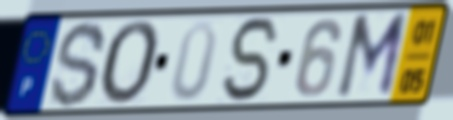0: (169, 18, 221, 105)
6: (293, 15, 343, 100)
M: (332, 9, 412, 103)
O: (98, 18, 164, 108)
S: (47, 18, 110, 111), (221, 14, 284, 105)
